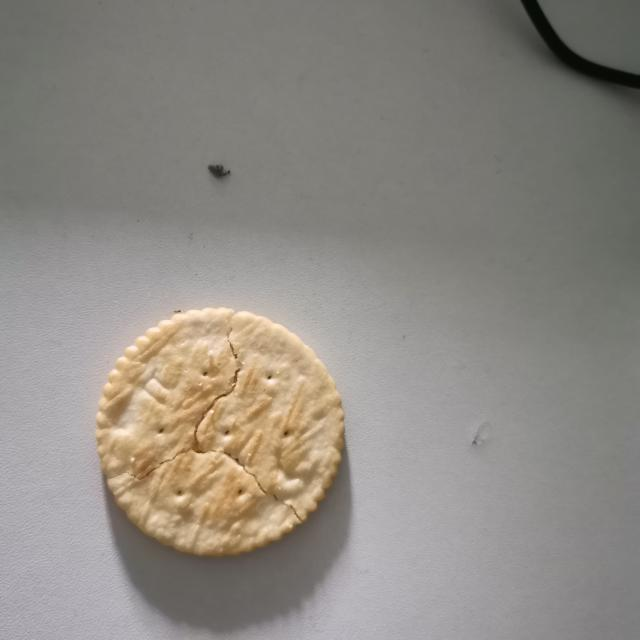Fracture: (107, 306, 307, 527)
